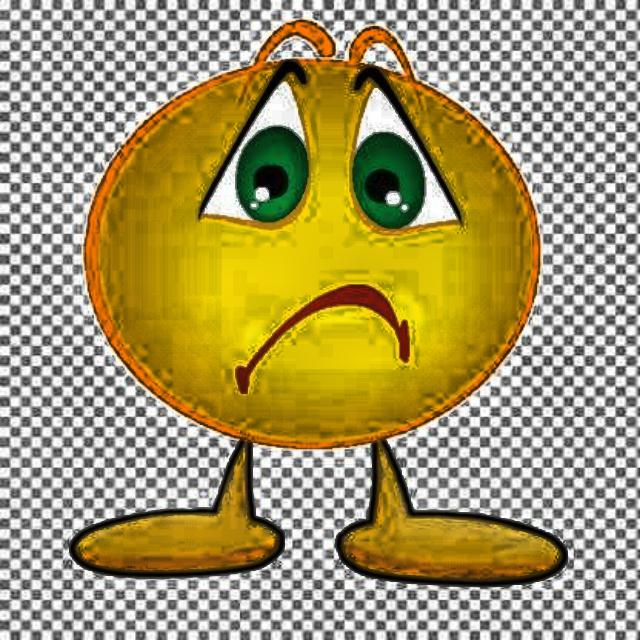sad: (74, 35, 550, 455)
